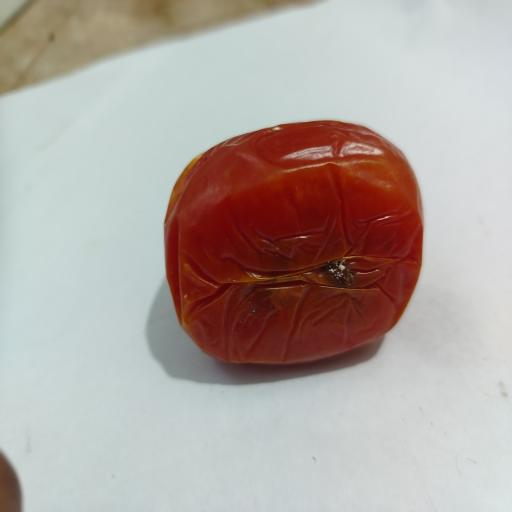spoiled: (165, 121, 423, 363)
